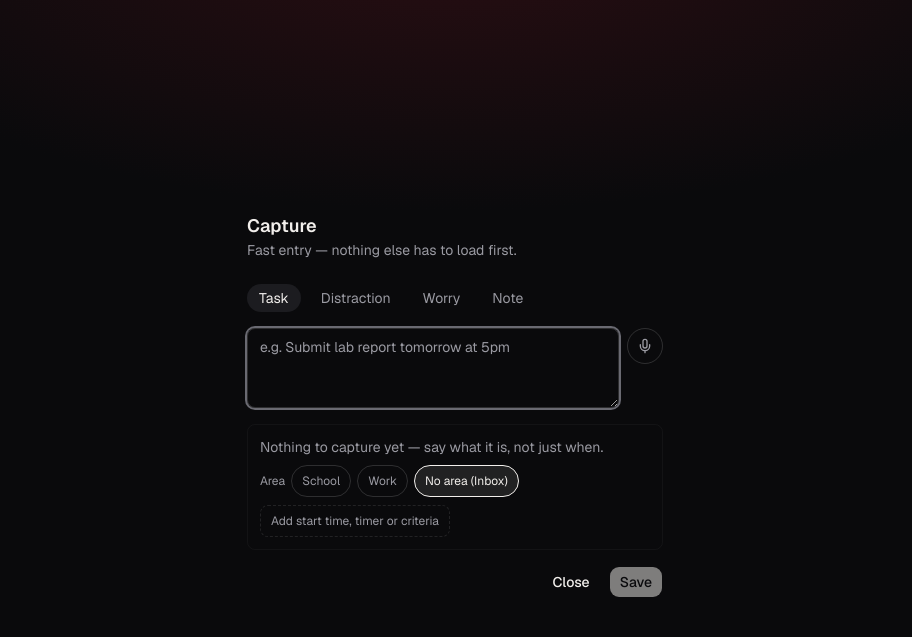
Test case: CapturePageClient › a successful capture stays on the page and resets for another entry, rather than navigating away
The width and height of the screenshot is (912, 637).
In the text box named "Capture input": (433, 368) [247,328,619,408], type "Submit lab report tomorrow at 5pm"
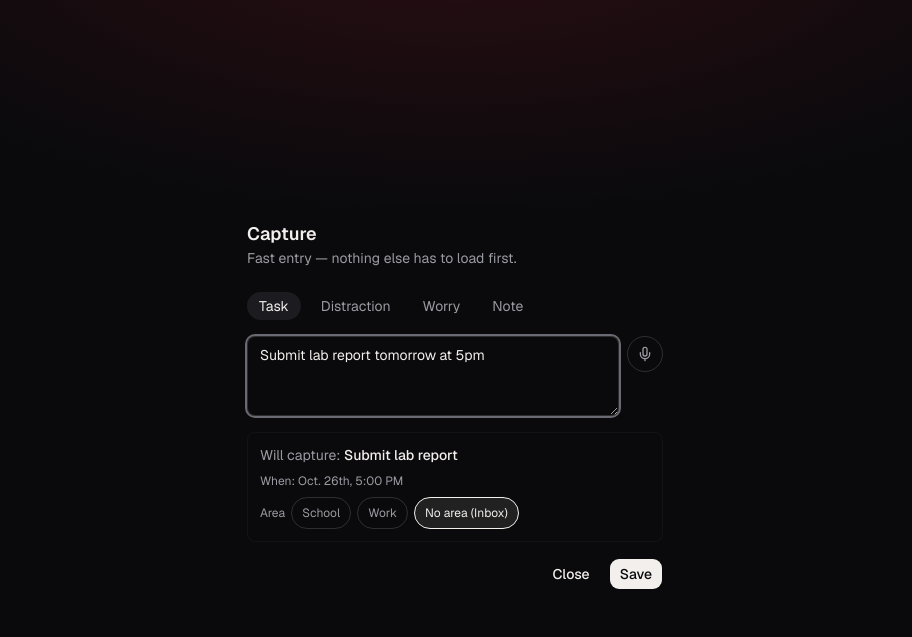
Click the button "Save": (636, 574) [609,558,663,590]
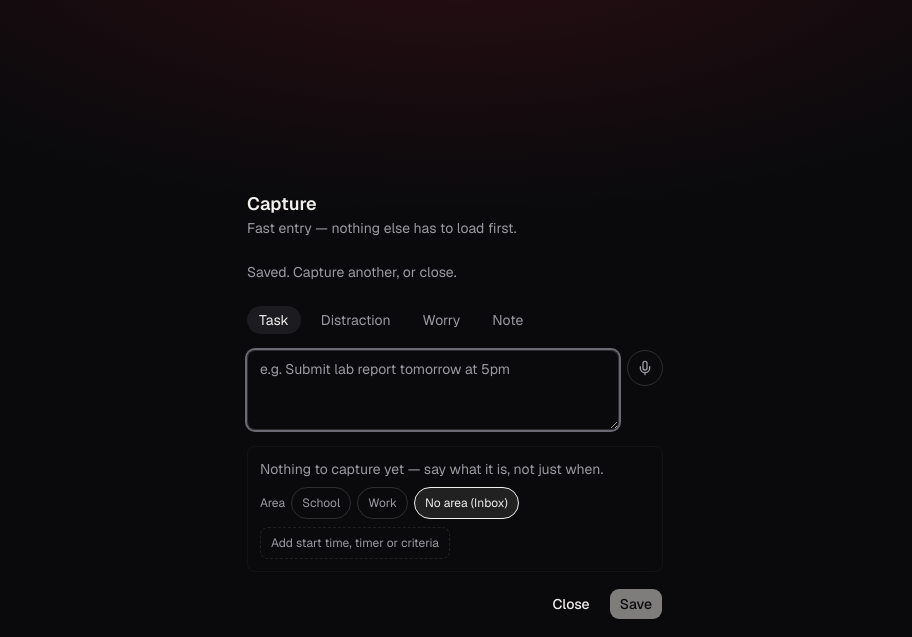
Now the message shows "Saved", box [247,263,456,281]
Now the text box named "Capture input" is empty, box [247,350,619,430]
Now the button "Save" is disabled, box [609,588,663,620]
